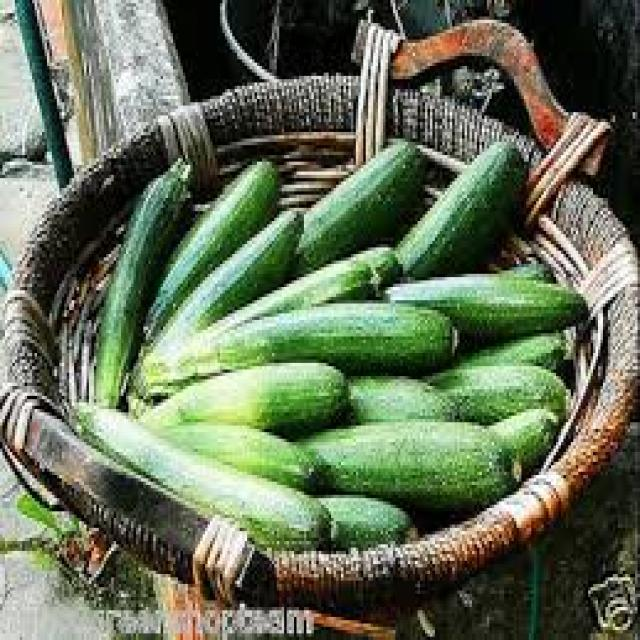Zucchini: (226, 313, 469, 371)
